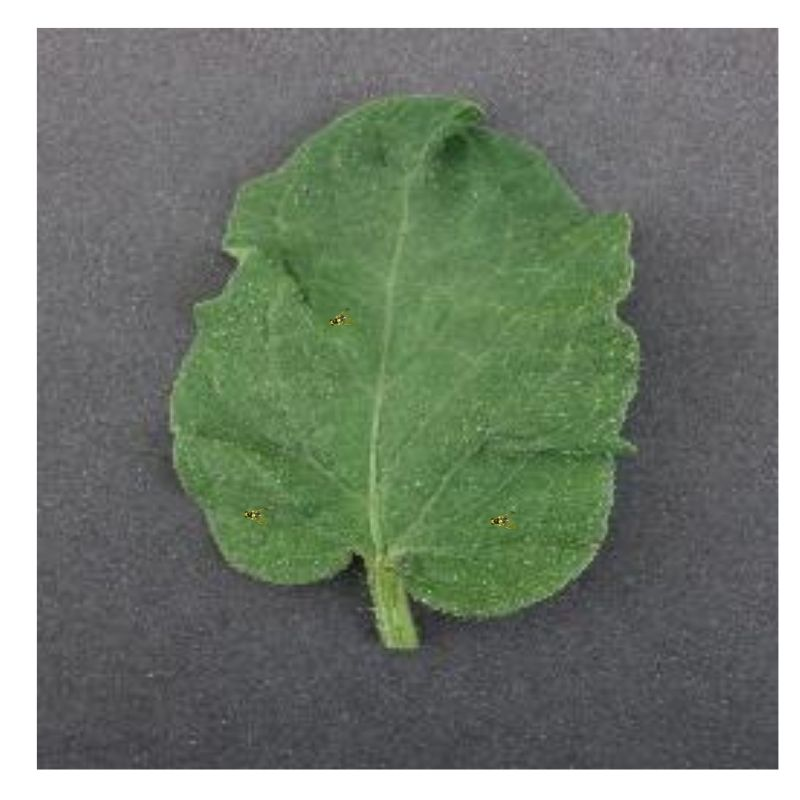liriomyza: (326, 306, 354, 327), (241, 506, 266, 525), (490, 510, 514, 529)
